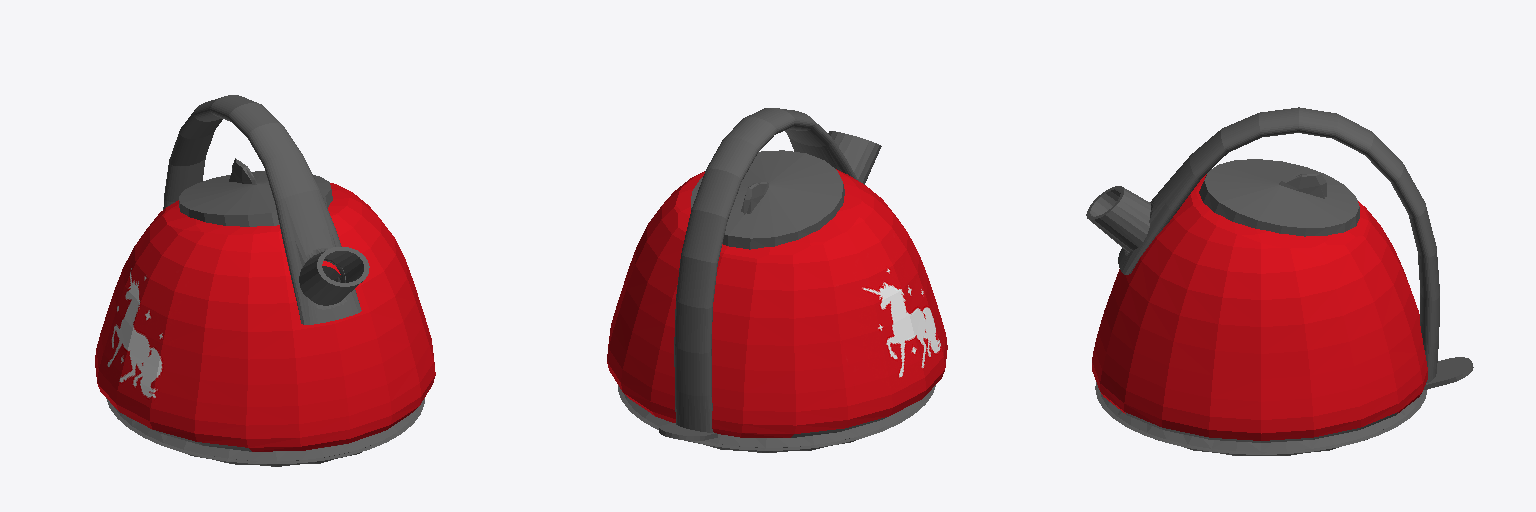
3 views of the same model, side by side, from view 1: azimuth 30°, elevation 25°; view 2: azimuth 150°, elevation 25°; view 3: azimuth 270°, elevation 25° (orthographic).
Visible parts, largest first — view 1: Kettle:Base; view 2: Kettle:Base; view 3: Kettle:Base.
Boxes of the visible parts, <box> form: Kettle:Base: <box>95,95,435,466</box>; Kettle:Base: <box>607,108,947,452</box>; Kettle:Base: <box>1086,107,1473,455</box>.
Bounding box in the file's own units: 2.22 × 2.06 × 2.49.
1 materials, 1 textured.